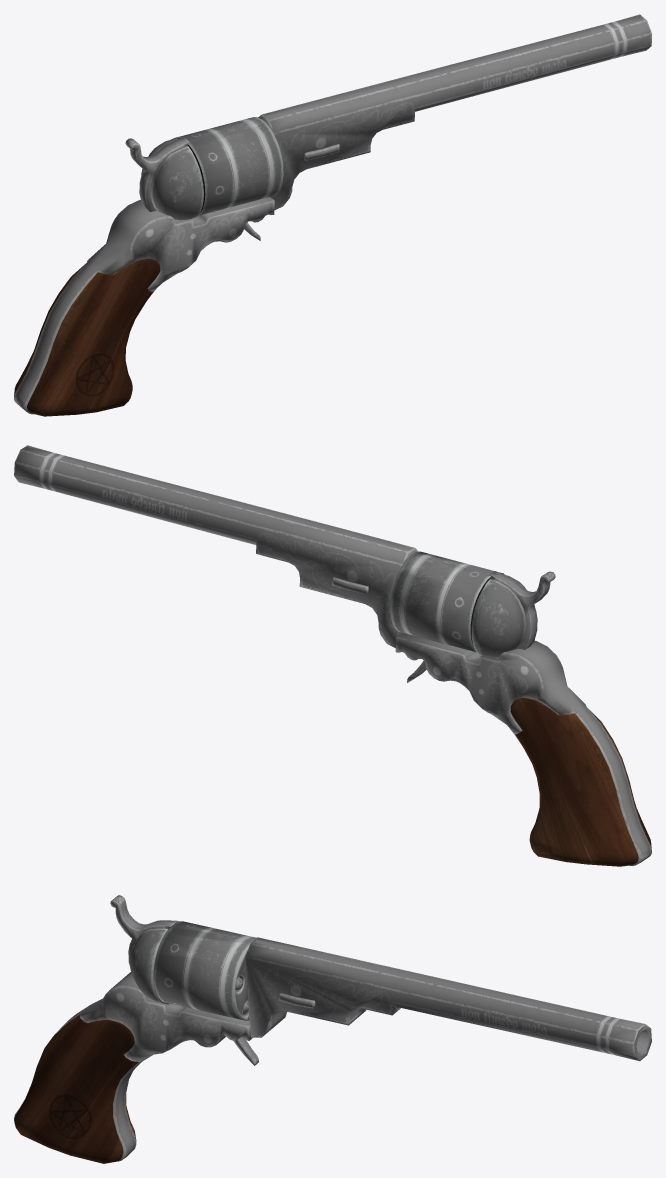
Rendered from colt.glb.
The picture shows the model from 3 angles, top to bottom: view 1: azimuth 30°, elevation 25°; view 2: azimuth 150°, elevation 25°; view 3: azimuth 330°, elevation 25°; orthographic projection. The views are drawn at different scales.
Parts seen in each view (by area): view 1: Object_2.001; view 2: Object_2.001; view 3: Object_2.001.
Boxes of the visible parts, left/top/right/bottom form: Object_2.001: left=14, top=14, right=651, bottom=416; Object_2.001: left=14, top=445, right=651, bottom=866; Object_2.001: left=14, top=895, right=651, bottom=1163.
Size of the model in its own units: 0.8877 by 0.3606 by 0.1065.
1 material, 1 textured.
